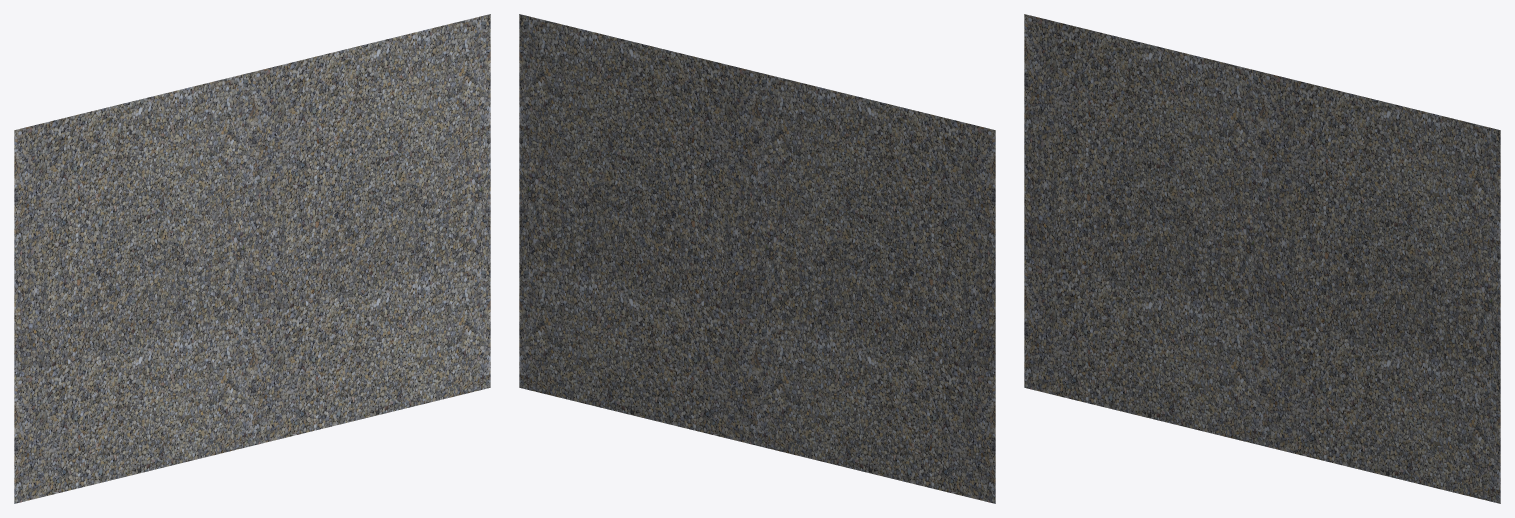
Rendered from mixed3.obj.
The picture shows the model from 3 angles, left to right: view 1: azimuth 30°, elevation 25°; view 2: azimuth 150°, elevation 25°; view 3: azimuth 330°, elevation 25°; orthographic projection.
Parts seen in each view (by area): view 1: mixed3; view 2: mixed3; view 3: mixed3.
Part boxes in pixels (left/top/right/bottom): mixed3: left=14, top=14, right=490, bottom=503; mixed3: left=519, top=14, right=995, bottom=503; mixed3: left=1024, top=14, right=1500, bottom=503.
Bounding box in the file's own units: 4 × 3 × 0.0138.
Materials: 1 (1 with a texture image).
